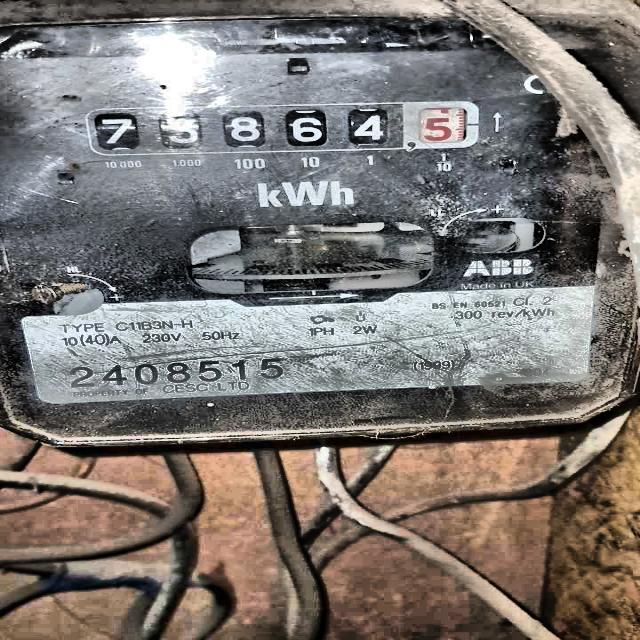Analog: (0, 19, 640, 438)
Reading: (84, 110, 466, 147)
Serial No.: (70, 358, 286, 387)
